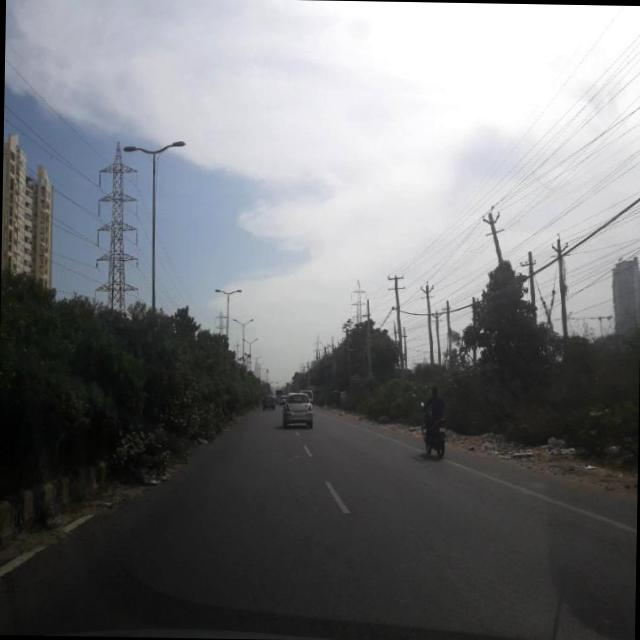crack: (33, 466, 636, 636)
